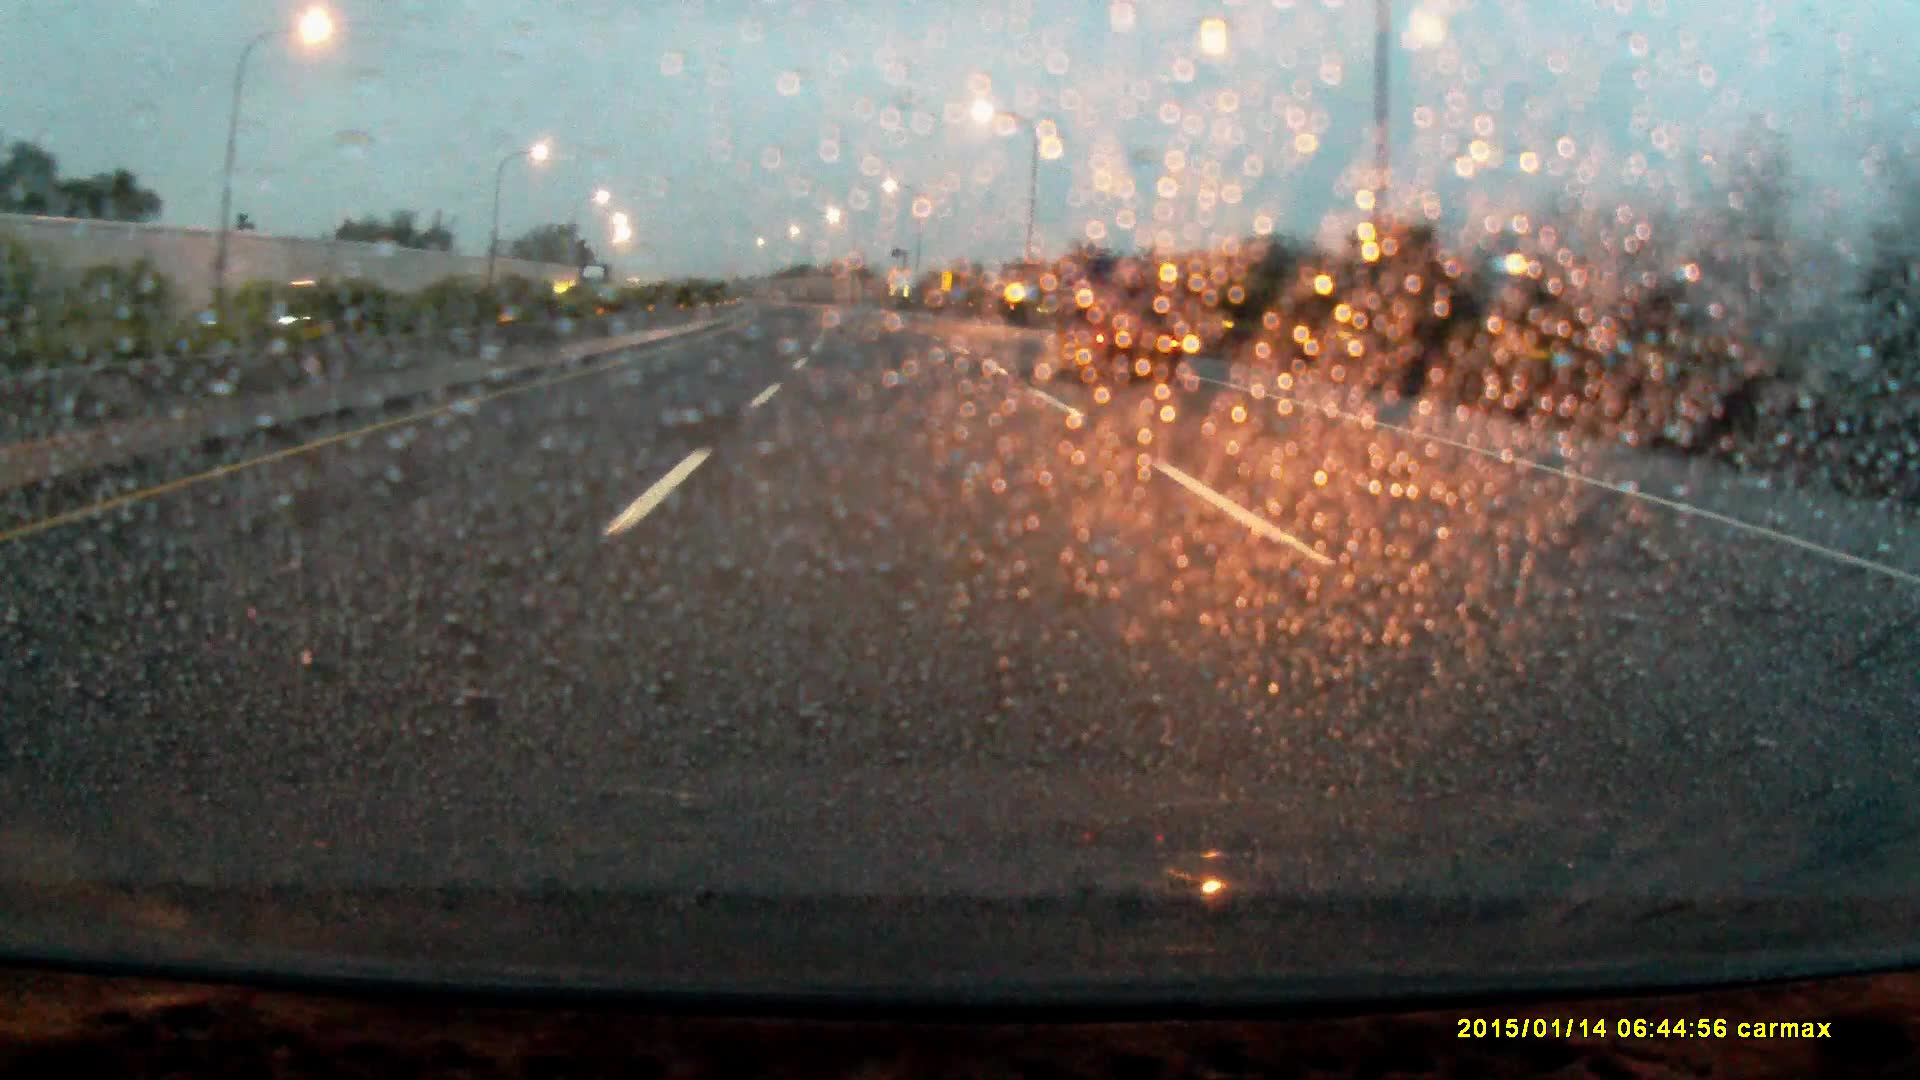vehicle: (1054, 257, 1189, 392), (579, 264, 613, 307)
